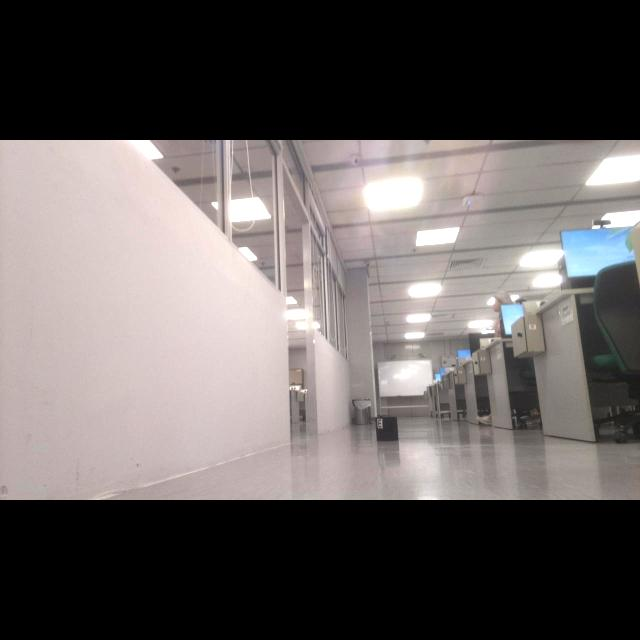E: (378, 419, 381, 428)
